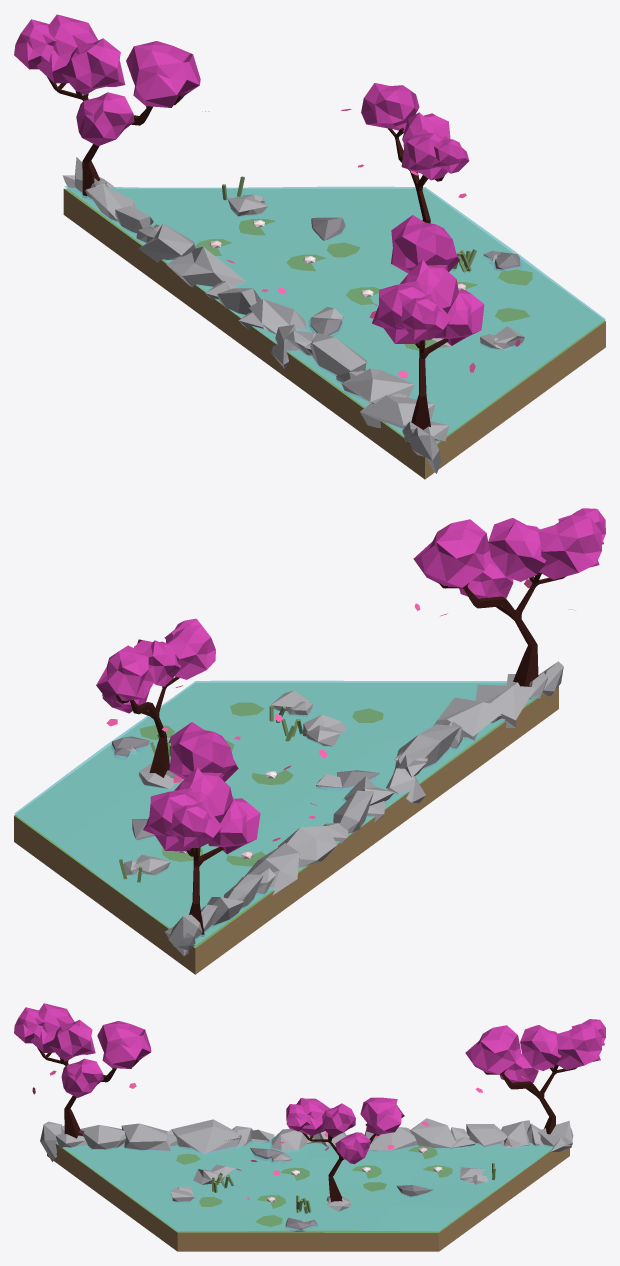
File: pond_half_lower.glb
3 renders of one model, top to bottom at view 1: azimuth 30°, elevation 25°; view 2: azimuth 150°, elevation 25°; view 3: azimuth 270°, elevation 25°, orthographic. The views are drawn at different scales.
Visible parts, largest first — view 1: SplitBase, SplitRiverWater, Tree_0_Icosphere, Tree_0_Icosphere.005, Tree_0_Icosphere.003, Tree_0_Icosphere.004, Tree_0_Icosphere.010, Tree_0_Icosphere.002, Rock_334.017, Tree_0_Icosphere.009, Tree_0_Icosphere.008, Rock_321.004 (+19 smaller); view 2: SplitBase, SplitRiverWater, Tree_0_Icosphere.005, Tree_0_Icosphere.009, Tree_0_Icosphere, Tree_0_Icosphere.007, Tree_0_Icosphere.010, Tree_0_Cube.001, Tree_0_Icosphere.014, Tree_0_Icosphere.001, Tree_0_Icosphere.002, Tree_0_Icosphere.004 (+15 smaller); view 3: SplitBase, SplitRiverWater, Tree_0_Icosphere.005, Tree_0_Icosphere, Tree_0_Icosphere.002, Rock_334.012, Tree_0_Icosphere.003, Tree_0_Icosphere.007, Tree_0_Icosphere.010, Tree_0_Icosphere.006, Rock_321.004, Tree_0_Icosphere.009 (+18 smaller).
Part boxes in pixels (x1=…): SplitBase: x1=63, y1=188, x2=605, y2=479; SplitRiverWater: x1=64, y1=186, x2=605, y2=442; Tree_0_Icosphere: x1=126, y1=41, x2=200, y2=107; Tree_0_Icosphere.005: x1=391, y1=215, x2=459, y2=273; Tree_0_Icosphere.003: x1=61, y1=38, x2=125, y2=95; Tree_0_Icosphere.004: x1=76, y1=92, x2=134, y2=146; Tree_0_Icosphere.010: x1=361, y1=83, x2=419, y2=131; Tree_0_Icosphere.002: x1=37, y1=14, x2=98, y2=83; Rock_334.017: x1=166, y1=246, x2=245, y2=287; Tree_0_Icosphere.009: x1=372, y1=280, x2=437, y2=343; Tree_0_Icosphere.008: x1=394, y1=294, x2=451, y2=340; Rock_321.004: x1=341, y1=368, x2=414, y2=403; SplitBase: x1=14, y1=683, x2=558, y2=974; SplitRiverWater: x1=14, y1=680, x2=538, y2=945; Tree_0_Icosphere.005: x1=413, y1=519, x2=491, y2=587; Tree_0_Icosphere.009: x1=537, y1=515, x2=601, y2=579; Tree_0_Icosphere: x1=169, y1=722, x2=238, y2=781; Tree_0_Icosphere.007: x1=488, y1=518, x2=546, y2=581; Tree_0_Icosphere.010: x1=96, y1=645, x2=154, y2=701; Tree_0_Cube.001: x1=438, y1=572, x2=565, y2=686; Tree_0_Icosphere.014: x1=167, y1=625, x2=215, y2=679; Tree_0_Icosphere.001: x1=164, y1=802, x2=222, y2=847; Tree_0_Icosphere.002: x1=143, y1=788, x2=214, y2=851; Tree_0_Icosphere.004: x1=208, y1=796, x2=260, y2=854; SplitBase: x1=47, y1=1137, x2=569, y2=1251; SplitRiverWater: x1=56, y1=1136, x2=553, y2=1231; Tree_0_Icosphere.005: x1=97, y1=1021, x2=151, y2=1068; Tree_0_Icosphere: x1=465, y1=1025, x2=520, y2=1074; Tree_0_Icosphere.002: x1=555, y1=1024, x2=601, y2=1069; Rock_334.012: x1=171, y1=1119, x2=241, y2=1154; Tree_0_Icosphere.003: x1=520, y1=1025, x2=561, y2=1070; Tree_0_Icosphere.007: x1=49, y1=1019, x2=95, y2=1061; Tree_0_Icosphere.010: x1=360, y1=1097, x2=404, y2=1134; Tree_0_Icosphere.006: x1=61, y1=1058, x2=103, y2=1097; Rock_321.004: x1=121, y1=1123, x2=171, y2=1152; Tree_0_Icosphere.009: x1=31, y1=1003, x2=74, y2=1052.
Bounding box in the file's own units: 2.53 × 1.64 × 5.66.
